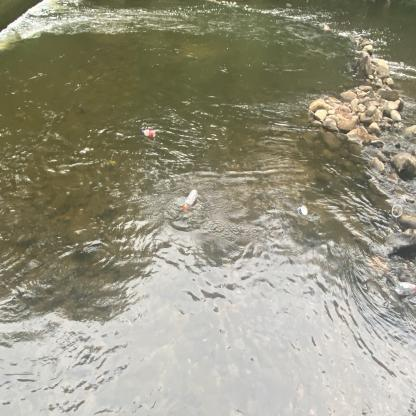trash: (182, 187, 199, 211), (390, 202, 404, 220), (140, 127, 156, 140), (295, 204, 309, 218)
